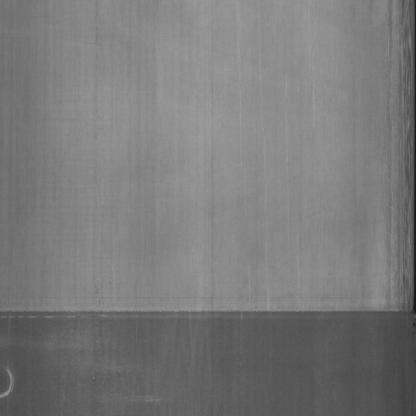welding_line: (2, 292, 416, 340)
